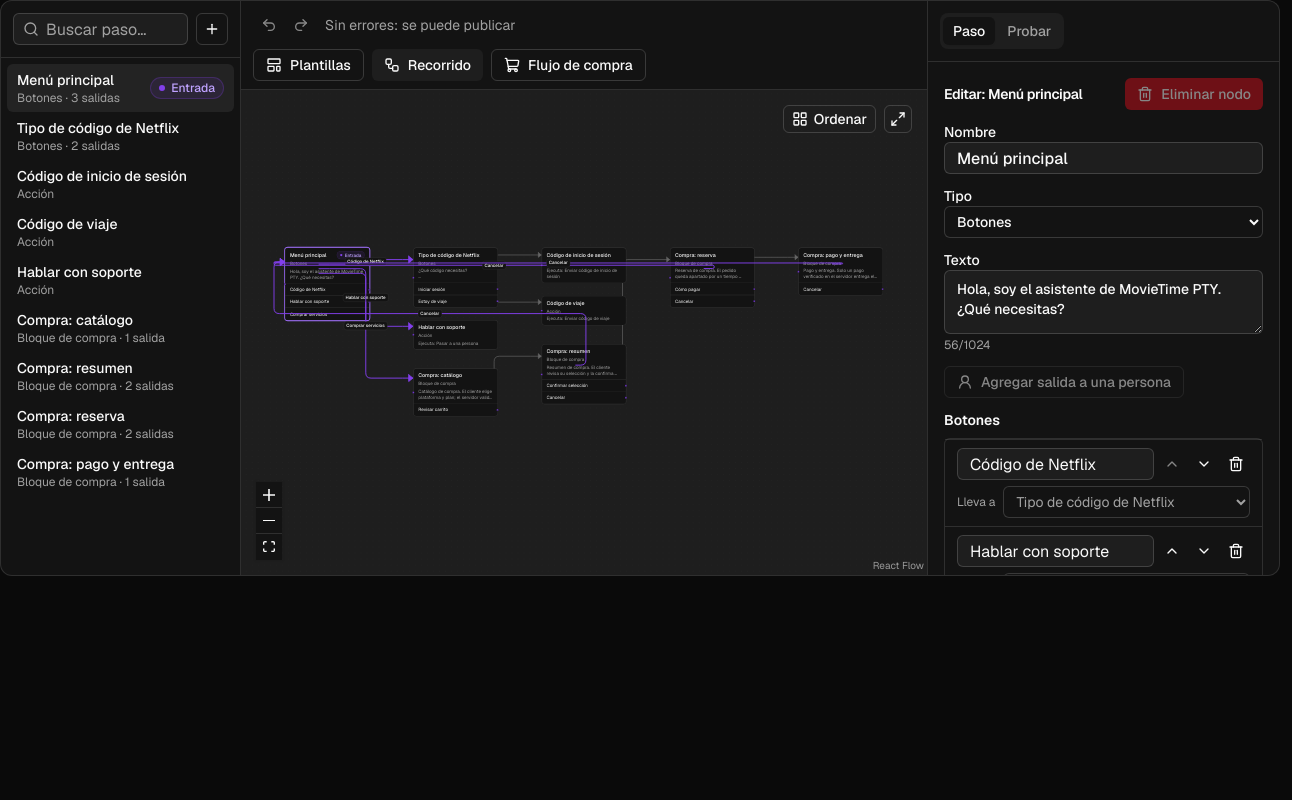
Test: estudio del recorrido con el flujo de compras › no muestra los textos del antiguo menú de compras, que el bot ya no envía
The image size is (1292, 800).
What coordinates should you click on to do the following:
click the button "Compra: catálogo Bloque de compra · 1 salida"
I would click on:
 (120, 328)
Its box is [7,304,234,352].
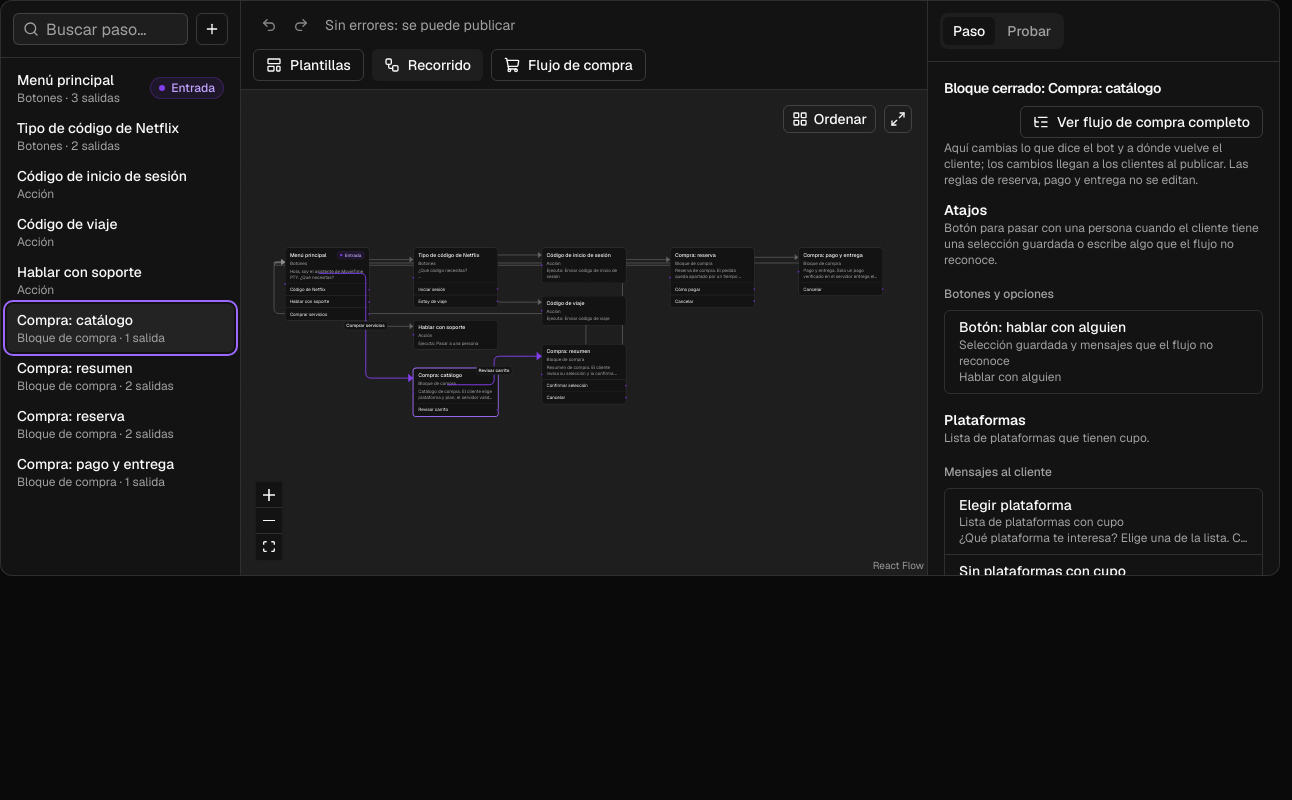
Result: the button "Botón: hablar con alguien" is shown at [945,311,1262,392]
